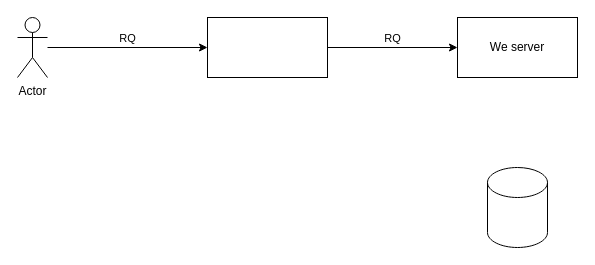
Image size: 595x265. Some labels were removed from this diagram. Each missing label, with the centre of its shape:
API Gateway: point (267, 47)
DB: point (517, 207)
